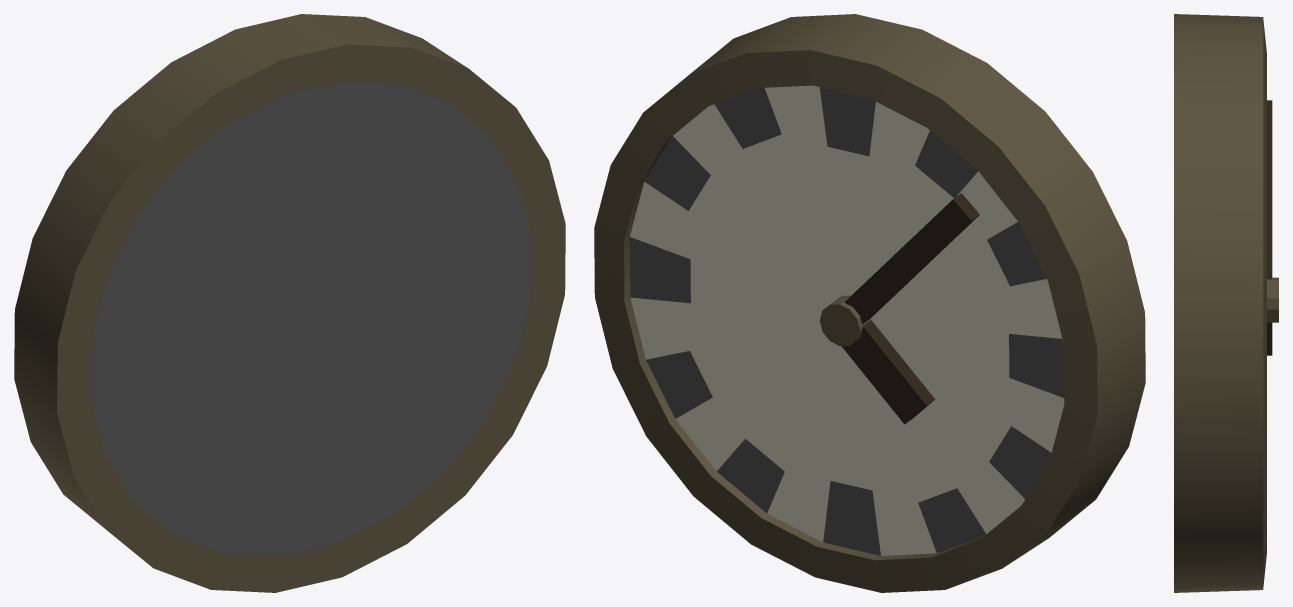
The model's file is TimePickup.fbx.
3 views of the same model, side by side, from view 1: azimuth 30°, elevation 25°; view 2: azimuth 150°, elevation 25°; view 3: azimuth 270°, elevation 25° (orthographic). The views are drawn at different scales.
Parts seen in each view (by area): view 1: pCylinder5; view 2: pCylinder5, pCube7, pCube8, pCylinder4; view 3: pCylinder5, pCube7, pCylinder4, pCube8.
Boxes of the visible parts, box(x1,y1,x2,y2) form: pCylinder5: box(14, 14, 565, 592); pCylinder5: box(594, 14, 1145, 592); pCube7: box(844, 193, 979, 323); pCube8: box(841, 320, 935, 424); pCylinder4: box(819, 295, 871, 346); pCylinder5: box(1174, 14, 1266, 592); pCube7: box(1267, 100, 1272, 279); pCylinder4: box(1267, 277, 1278, 322); pCube8: box(1267, 322, 1272, 355).
Size of the model in its own units: 3.45 by 3.45 by 0.6271.
